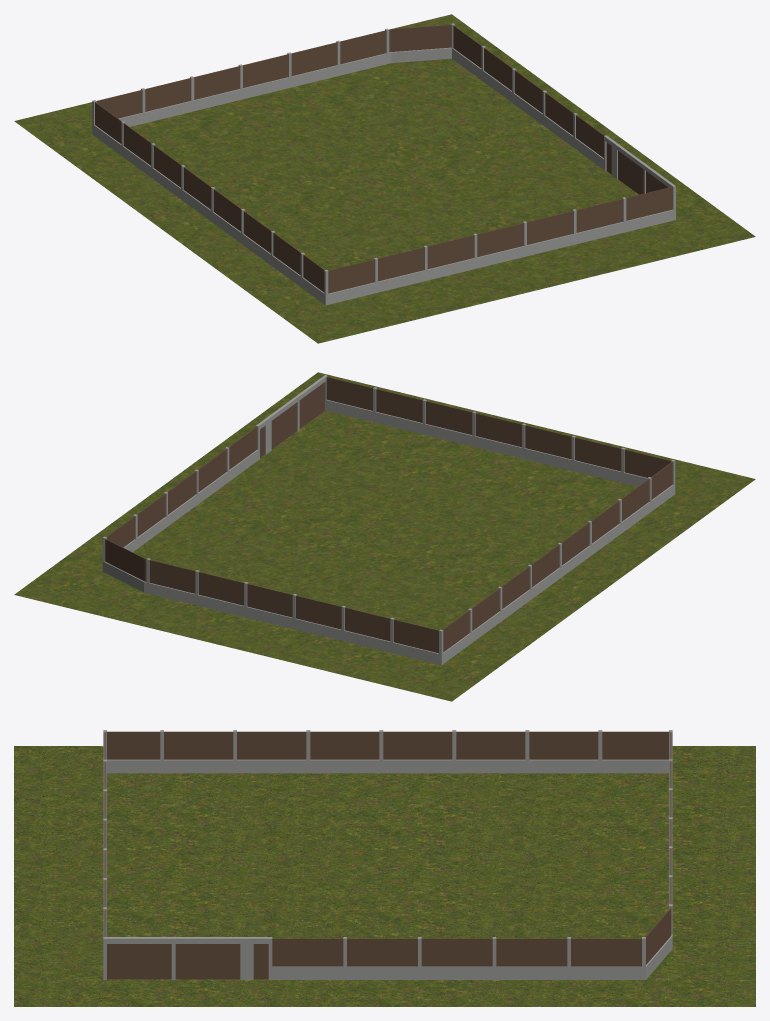
Rendered from land.glb.
3 renders of one model, top to bottom at view 1: azimuth 30°, elevation 25°; view 2: azimuth 150°, elevation 25°; view 3: azimuth 270°, elevation 25°, orthographic. The views are drawn at different scales.
Parts seen in each view (by area): view 1: Plane, Body575, Body598, Body596, Body597, Body595, Body599; view 2: Plane, Body575, Body598, Body596, Body597, Body595, Body599; view 3: Plane, Body575, Body597, Body595, Body599.
Boxes of the visible parts, bbox=[...] form: Plane: bbox=[14, 14, 755, 343]; Body575: bbox=[92, 23, 675, 305]; Body598: bbox=[328, 187, 672, 293]; Body596: bbox=[96, 30, 385, 118]; Body597: bbox=[95, 102, 324, 292]; Body595: bbox=[453, 25, 667, 194]; Body599: bbox=[389, 24, 451, 52]; Plane: bbox=[14, 372, 755, 701]; Body575: bbox=[102, 375, 675, 665]; Body598: bbox=[326, 377, 670, 477]; Body596: bbox=[149, 560, 438, 653]; Body597: bbox=[443, 462, 672, 652]; Body595: bbox=[106, 382, 324, 547]; Body599: bbox=[105, 539, 146, 581]; Plane: bbox=[14, 746, 755, 1006]; Body575: bbox=[103, 730, 672, 979]; Body597: bbox=[107, 731, 668, 759]; Body595: bbox=[107, 938, 641, 979]; Body599: bbox=[646, 907, 671, 964].
Bounding box in the file's own units: 32.39 × 2.45 × 38.95.
3 materials, 1 textured.
